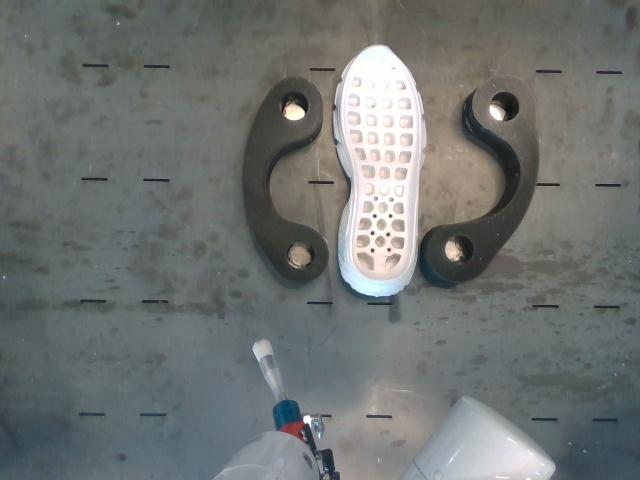shoes: (342, 46, 421, 281)
